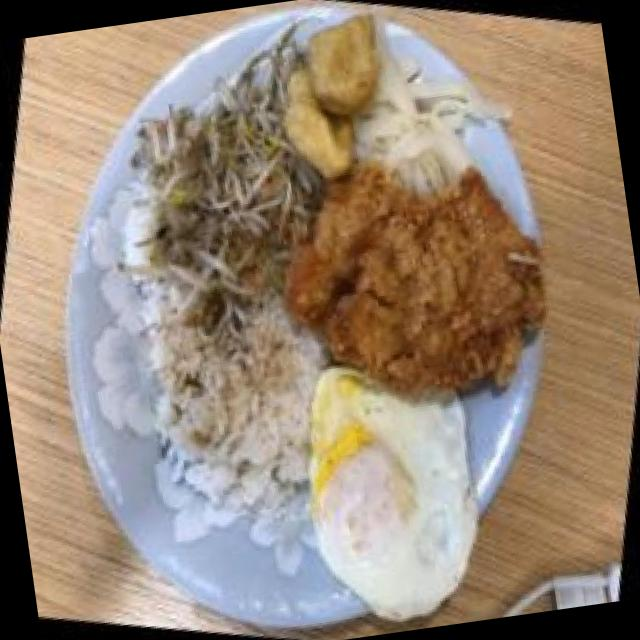chicken_nuggets: (251, 0, 403, 190)
fried_chicken: (243, 111, 588, 436)
fried_eggs: (262, 342, 523, 640)
mung_bean_sprouts: (115, 83, 312, 322)
rice: (128, 301, 338, 527)
